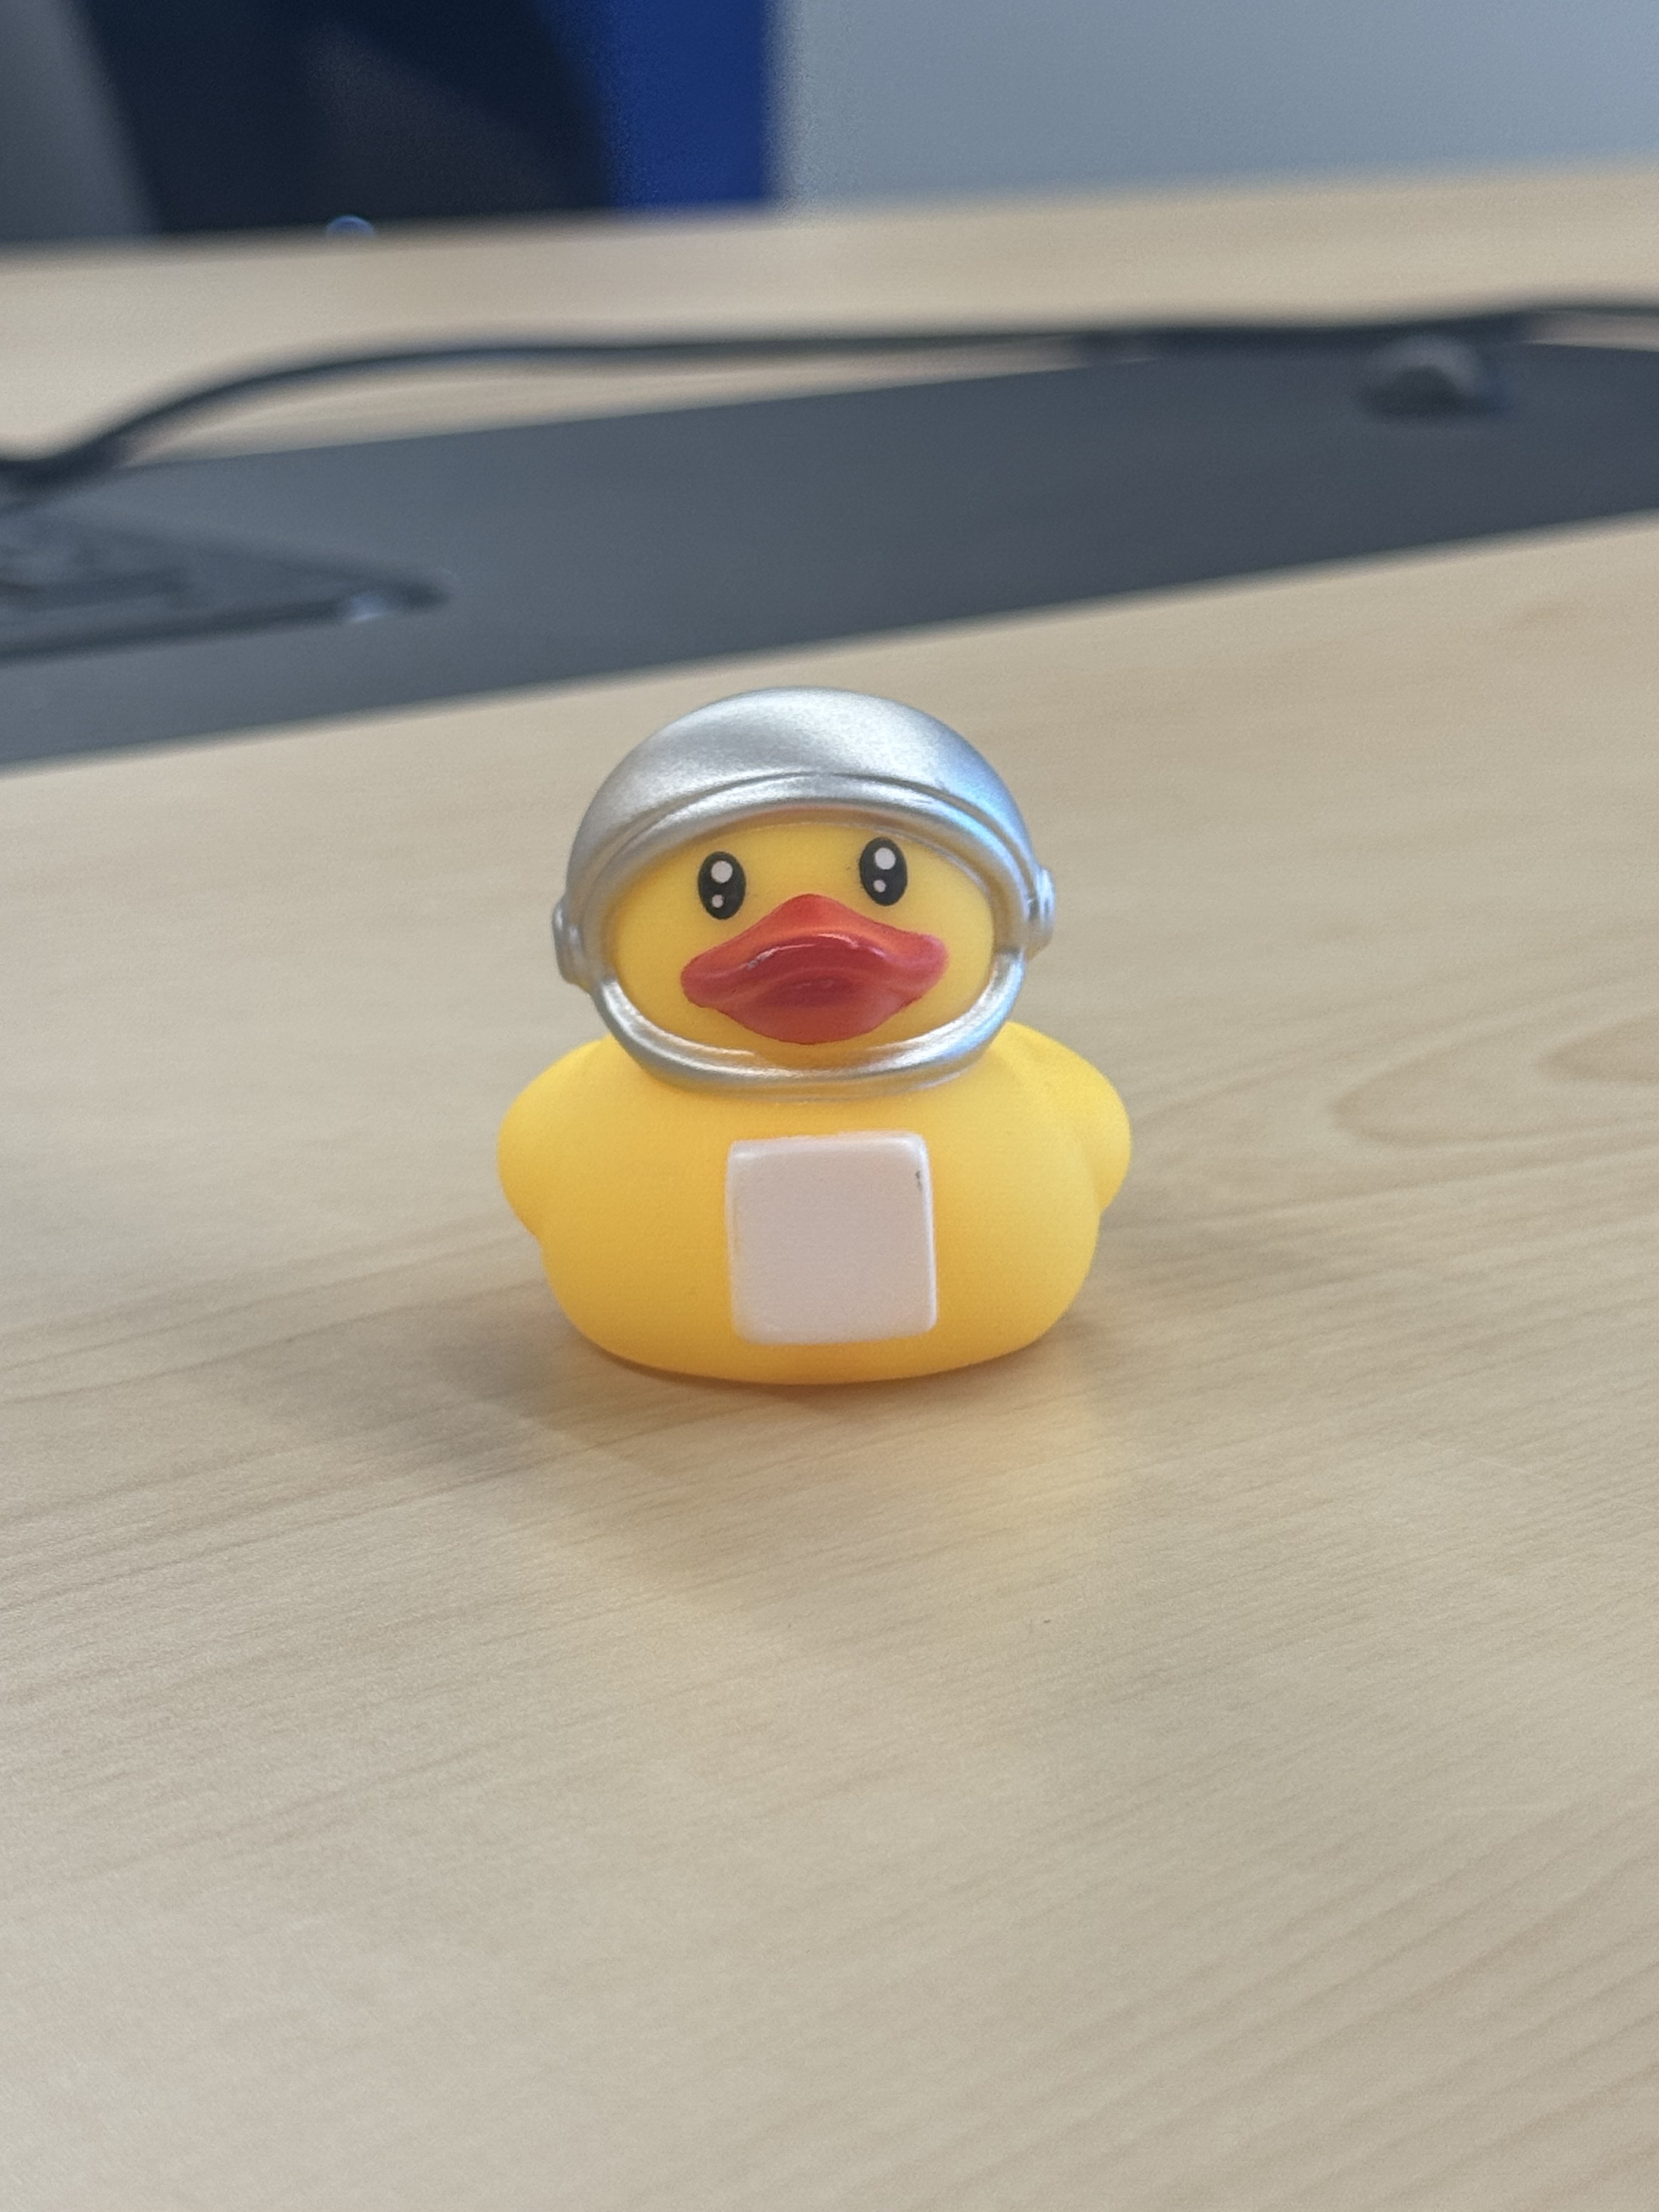duck_specialty: (479, 678, 1152, 1395)
